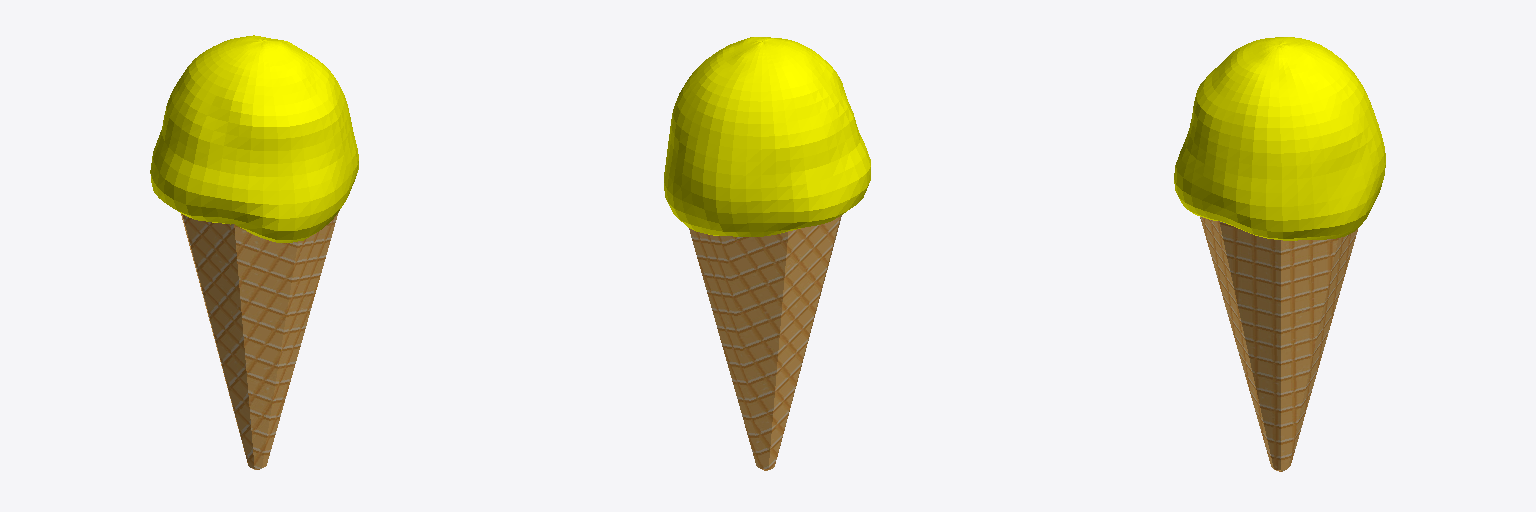
The picture shows the model from 3 angles: view 1: azimuth 30°, elevation 25°; view 2: azimuth 150°, elevation 25°; view 3: azimuth 270°, elevation 25°; orthographic projection.
Visible parts, largest first — view 1: Helado, cono; view 2: Helado, cono; view 3: Helado, cono.
Boxes of the visible parts, x1,y1,x2,y2 form: Helado: [150, 35, 358, 242]; cono: [181, 212, 338, 469]; Helado: [664, 37, 870, 236]; cono: [689, 215, 841, 470]; Helado: [1174, 37, 1385, 240]; cono: [1200, 217, 1357, 471].
Size of the model in its own units: 1.1 by 2.42 by 1.09.
2 materials, 1 textured.